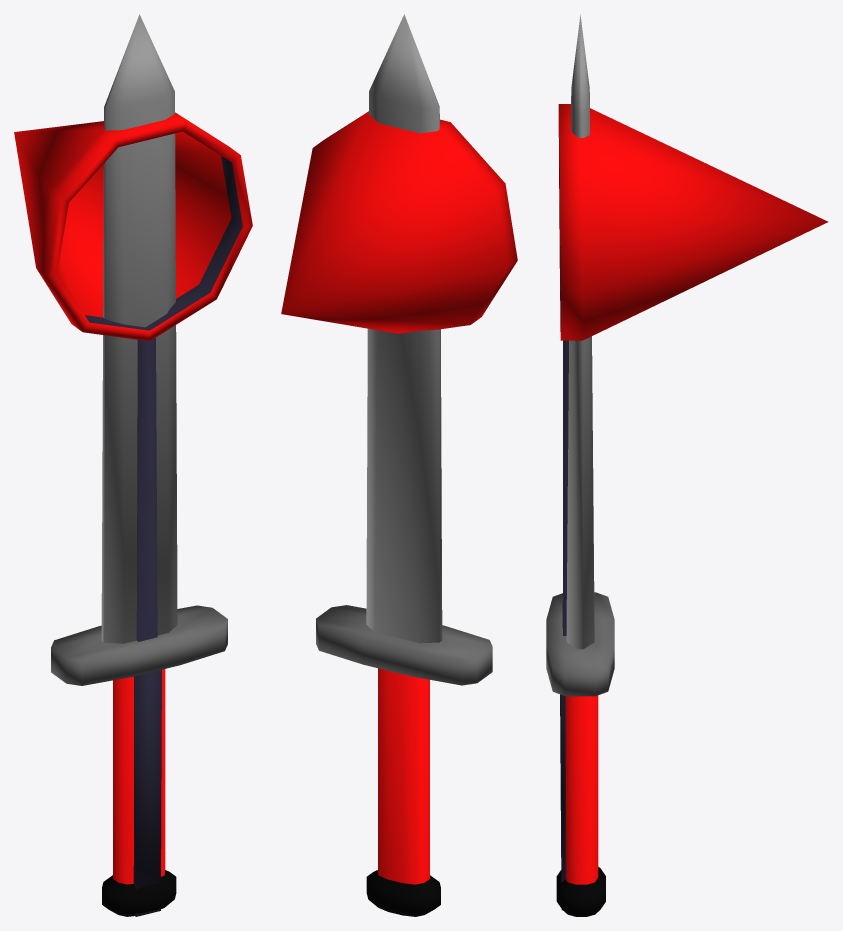
Rendered from Weapons.fbx.
3 views of the same model, side by side, from view 1: azimuth 30°, elevation 25°; view 2: azimuth 150°, elevation 25°; view 3: azimuth 270°, elevation 25° (orthographic).
Parts seen in each view (by area): view 1: Sword, Stick; view 2: Sword, Stick; view 3: Stick, Sword.
Boxes of the visible parts, bbox=[...] form: Sword: bbox=[51, 14, 227, 916]; Stick: bbox=[14, 112, 252, 916]; Sword: bbox=[316, 14, 492, 916]; Stick: bbox=[281, 111, 517, 333]; Stick: bbox=[558, 104, 828, 910]; Sword: bbox=[546, 14, 614, 916].
Bounding box in the file's own units: 19.43 × 80.42 × 23.09.
